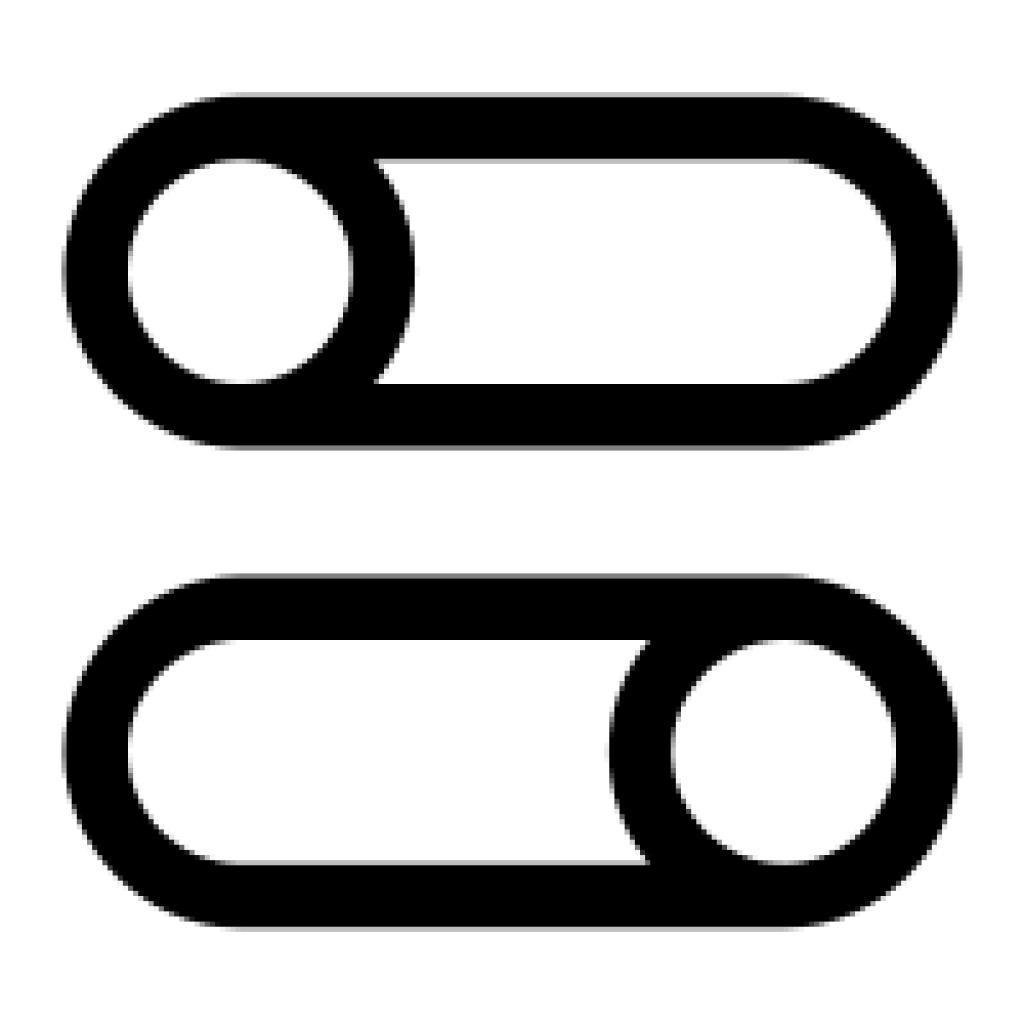switch: (53, 91, 974, 454), (51, 575, 970, 927)
